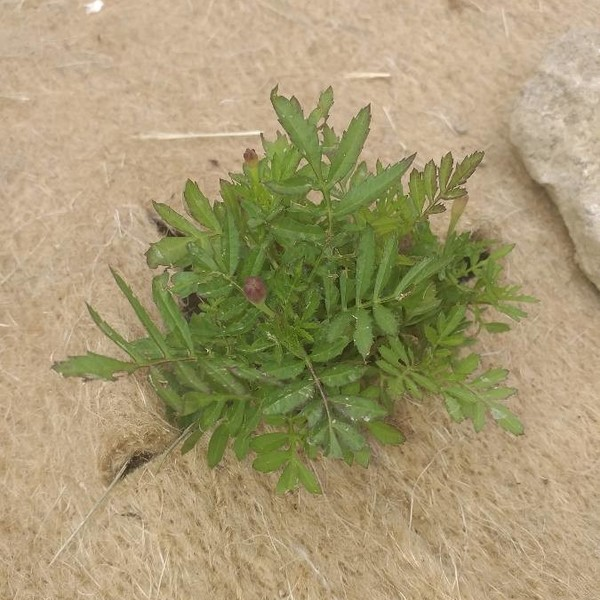obstacle: (42, 74, 551, 523)
